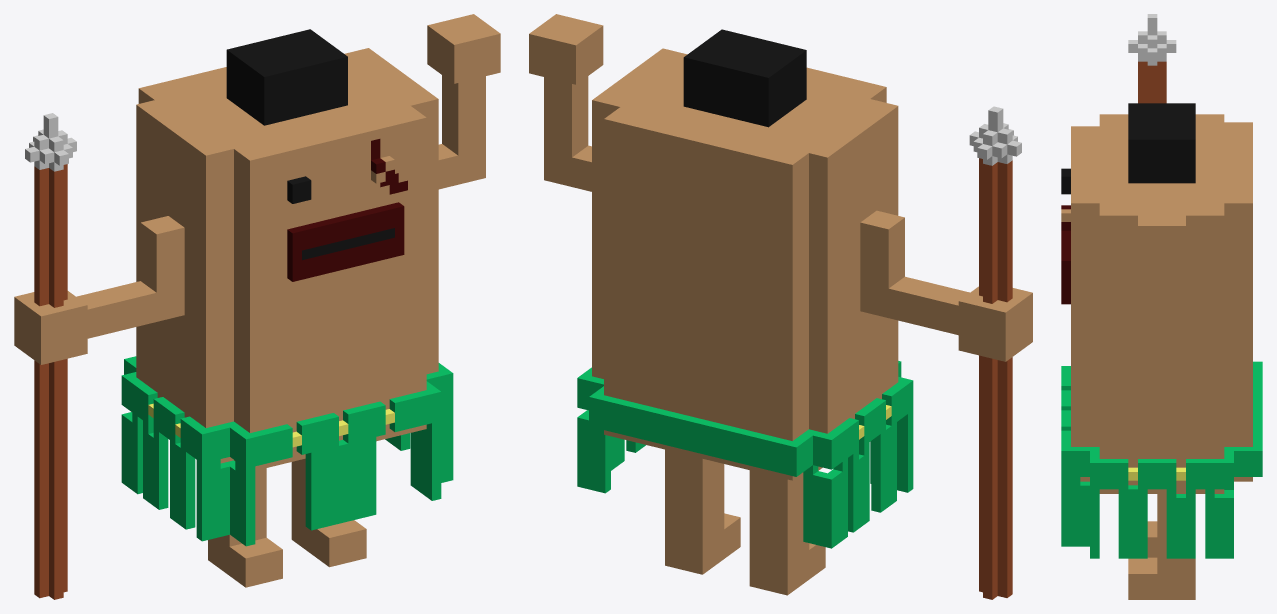
File: native_02.obj
3 views of the same model, side by side, from view 1: azimuth 30°, elevation 25°; view 2: azimuth 150°, elevation 25°; view 3: azimuth 270°, elevation 25° (orthographic). The views are drawn at different scales.
Bounding box in the file's own units: 50 × 52 × 21.
1 material, 1 textured.
